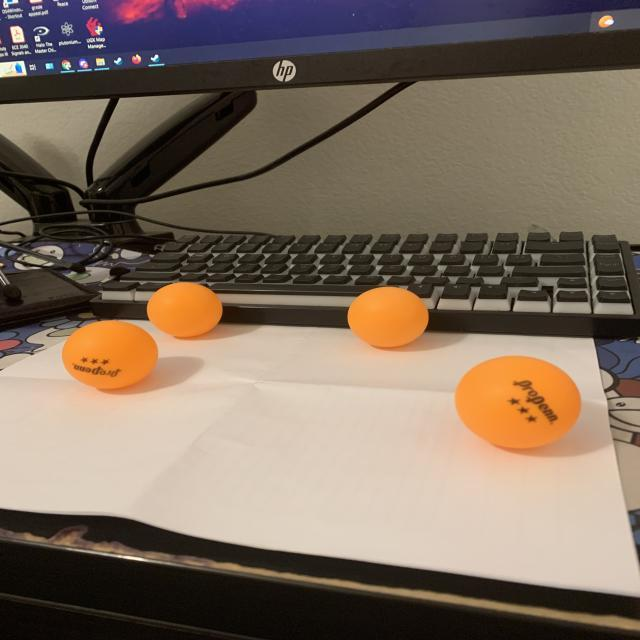ping-pong-ball: (448, 349, 586, 457), (59, 314, 162, 394), (345, 278, 432, 352), (144, 277, 228, 343)
